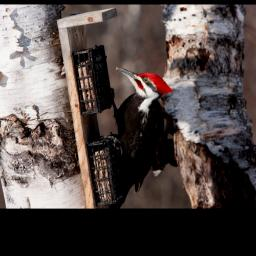Woodpecker: (103, 66, 177, 192)
